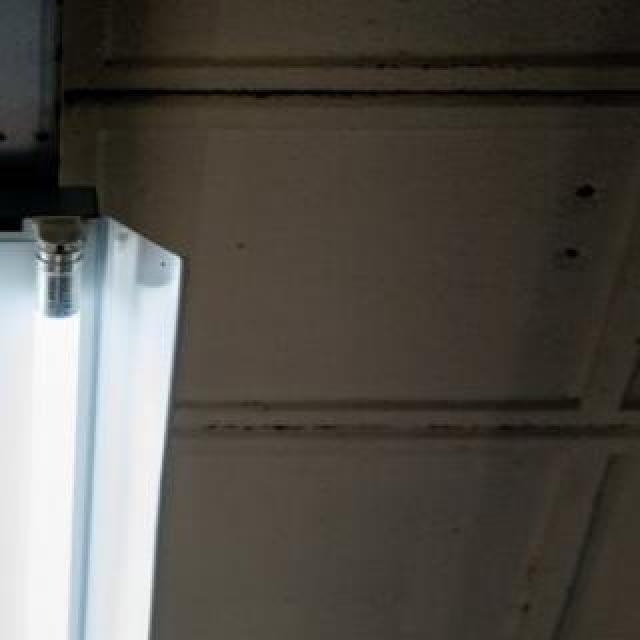fluorescent tube: (6, 206, 102, 640), (0, 214, 6, 640)
